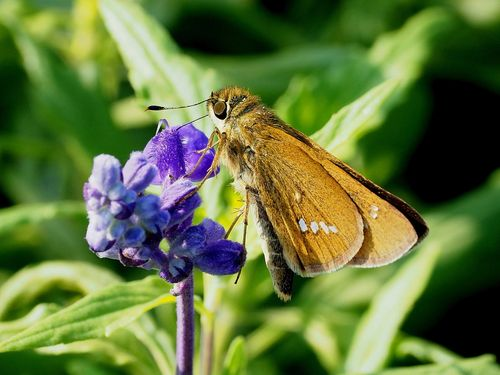Hesperiidae: (148, 77, 432, 299)
